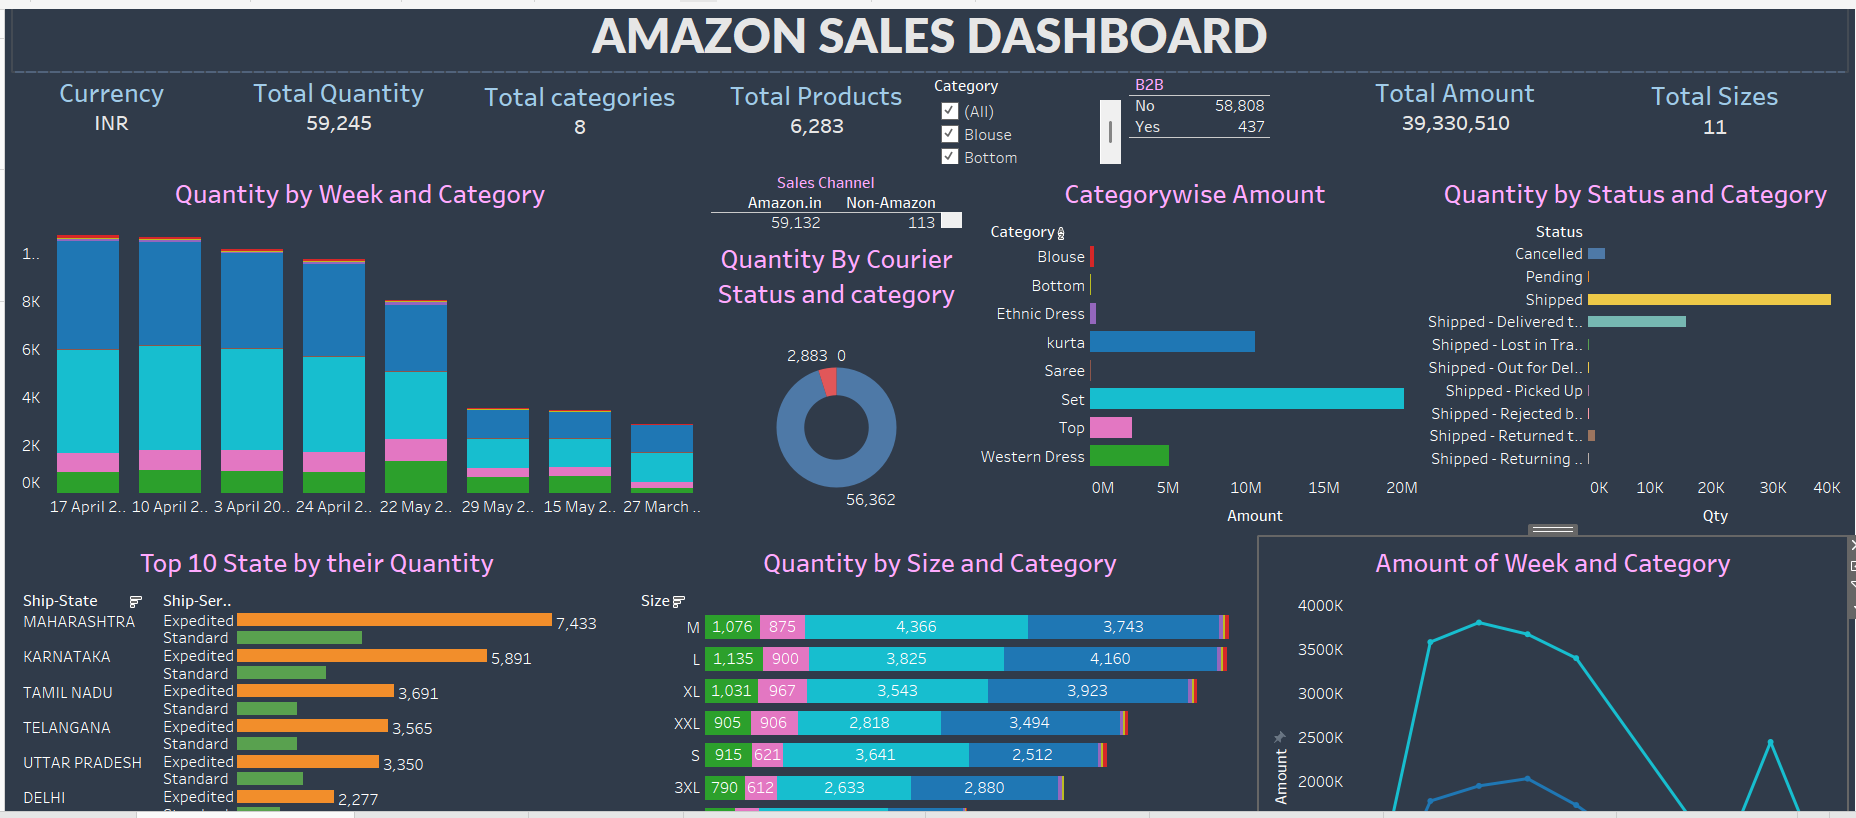

This screenshot's page, from the dashboard's own definition file:
{"tool":"tableau","page":{"name":"Amazon Sales DashBoard","canvas":[1850,1050],"ordinal":0},"visuals":[{"type":"title","box":[8,8,1834,74]},{"type":"worksheet","title":"Currency","mark":"Automatic","box":[8,82,209,97]},{"type":"worksheet","title":"Total Quantity","mark":"Automatic","box":[217,82,245,97]},{"type":"worksheet","title":"Total Categories","mark":"Automatic","box":[462,82,240,97]},{"type":"worksheet","title":"Total Products","mark":"Automatic","box":[702,82,223,97]},{"type":"filter","title":"Quantity by Week and Category","param":"[federated.0qifd7316xgb191b4jzjh0yfwiw5].[none:Category:nk]","box":[925,82,195,97]},{"type":"worksheet","title":"B2B Sales Quantity","mark":"Automatic","rows":["B2B"],"box":[1120,82,201,97]},{"type":"worksheet","title":"Total Amount","mark":"Automatic","box":[1321,82,273,97]},{"type":"worksheet","title":"Total Sizes","mark":"Automatic","box":[1594,82,248,97]},{"type":"worksheet","title":"Quantity by Week and Category","mark":"Bar","rows":["Qty"],"cols":["Date"],"box":[8,179,694,369]},{"type":"worksheet","title":"Quantity By Sales channel and Category","mark":"Automatic","cols":["Sales Channel"],"box":[702,179,259,65]},{"type":"worksheet","title":"Categorywise Amount","mark":"Automatic","rows":["Category"],"cols":["Amount"],"box":[961,179,458,369]},{"type":"worksheet","title":"Quantity by Status and Category","mark":"Automatic","rows":["Status"],"cols":["Qty"],"box":[1419,179,423,369]},{"type":"worksheet","title":"Quantity By Courier Status and category","mark":"Pie","rows":["Calculation_930274858528366598","Calculation_930274858528387080"],"box":[702,244,259,304]},{"type":"worksheet","title":"Top 10 State by their Quantity","mark":"Automatic","rows":["ship-state","ship-service-level"],"cols":["Qty"],"box":[8,548,608,494]},{"type":"worksheet","title":"Quantity by Size and Category","mark":"Automatic","rows":["Size"],"cols":["Qty"],"box":[616,548,638,494]},{"type":"worksheet","title":"Amount of Week and Category","mark":"Line","rows":["Amount"],"cols":["Date"],"box":[1254,548,588,494]}]}

Visuals, with their boxes on the page's 1850x1050 design canvas (x1, y1, x2, y2). These are canvas units, not pixel positions in the 1856x818 screenshot, which may show the page scaled, cropped or inside an application window:
title: region(8, 8, 1842, 82)
"Currency" worksheet: region(8, 82, 217, 179)
"Total Quantity" worksheet: region(217, 82, 462, 179)
"Total Categories" worksheet: region(462, 82, 702, 179)
"Total Products" worksheet: region(702, 82, 925, 179)
"Quantity by Week and Category" filter: region(925, 82, 1120, 179)
"B2B Sales Quantity" worksheet: region(1120, 82, 1321, 179)
"Total Amount" worksheet: region(1321, 82, 1594, 179)
"Total Sizes" worksheet: region(1594, 82, 1842, 179)
"Quantity by Week and Category" worksheet (Bar marks): region(8, 179, 702, 548)
"Quantity By Sales channel and Category" worksheet: region(702, 179, 961, 244)
"Categorywise Amount" worksheet: region(961, 179, 1419, 548)
"Quantity by Status and Category" worksheet: region(1419, 179, 1842, 548)
"Quantity By Courier Status and category" worksheet (Pie marks): region(702, 244, 961, 548)
"Top 10 State by their Quantity" worksheet: region(8, 548, 616, 1042)
"Quantity by Size and Category" worksheet: region(616, 548, 1254, 1042)
"Amount of Week and Category" worksheet (Line marks): region(1254, 548, 1842, 1042)
